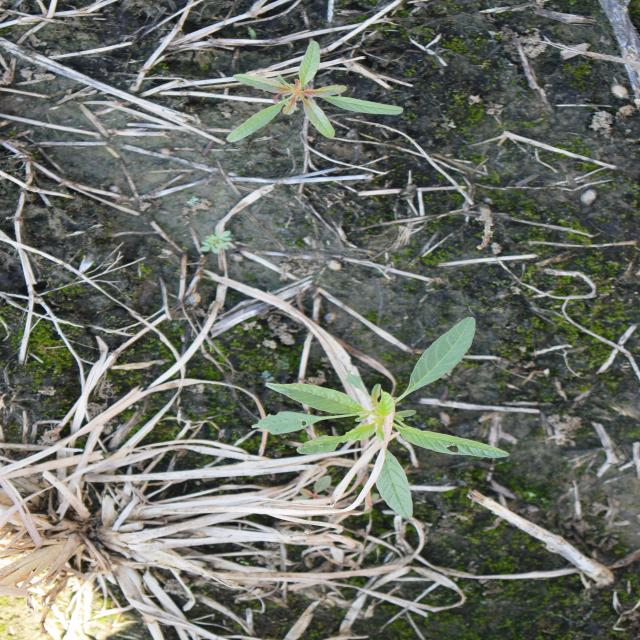Ragweed: (196, 230, 238, 256)
Waterhemp: (250, 315, 513, 523), (222, 36, 406, 144)
